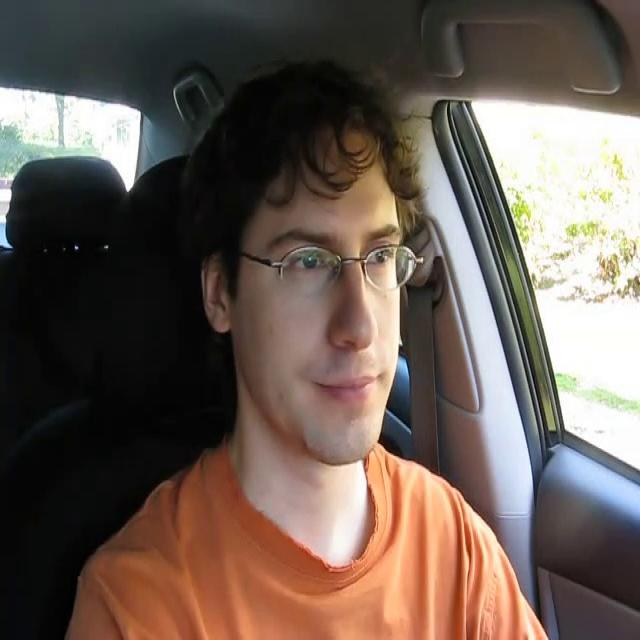close: (305, 366, 389, 409)
